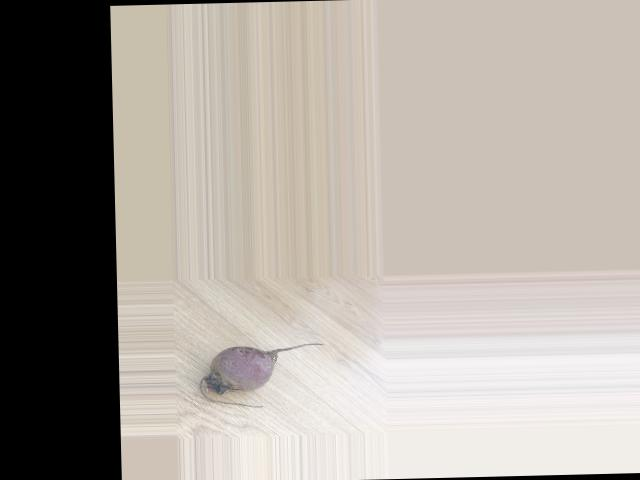beet: (199, 342, 326, 408)
